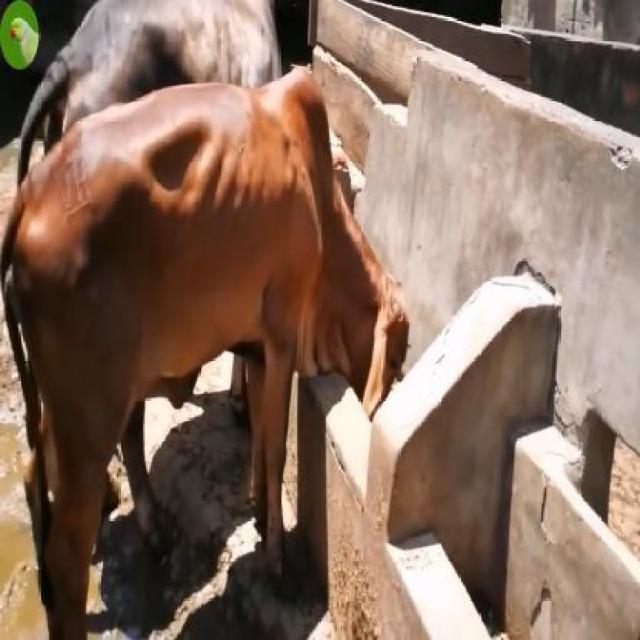Cow: (2, 71, 409, 638)
